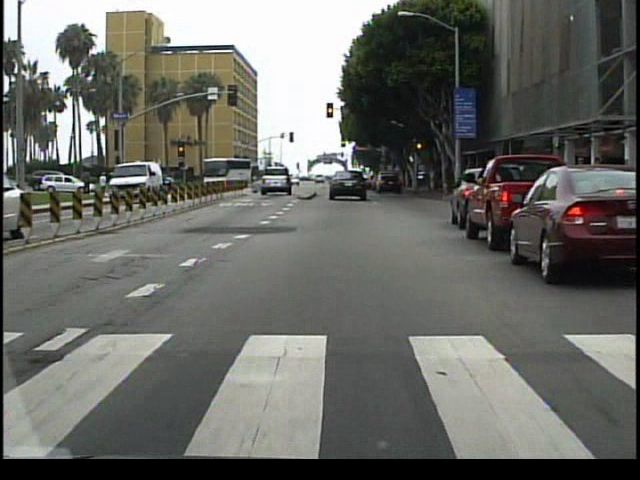person: (101, 169, 115, 207), (83, 169, 95, 191), (100, 171, 111, 194)
